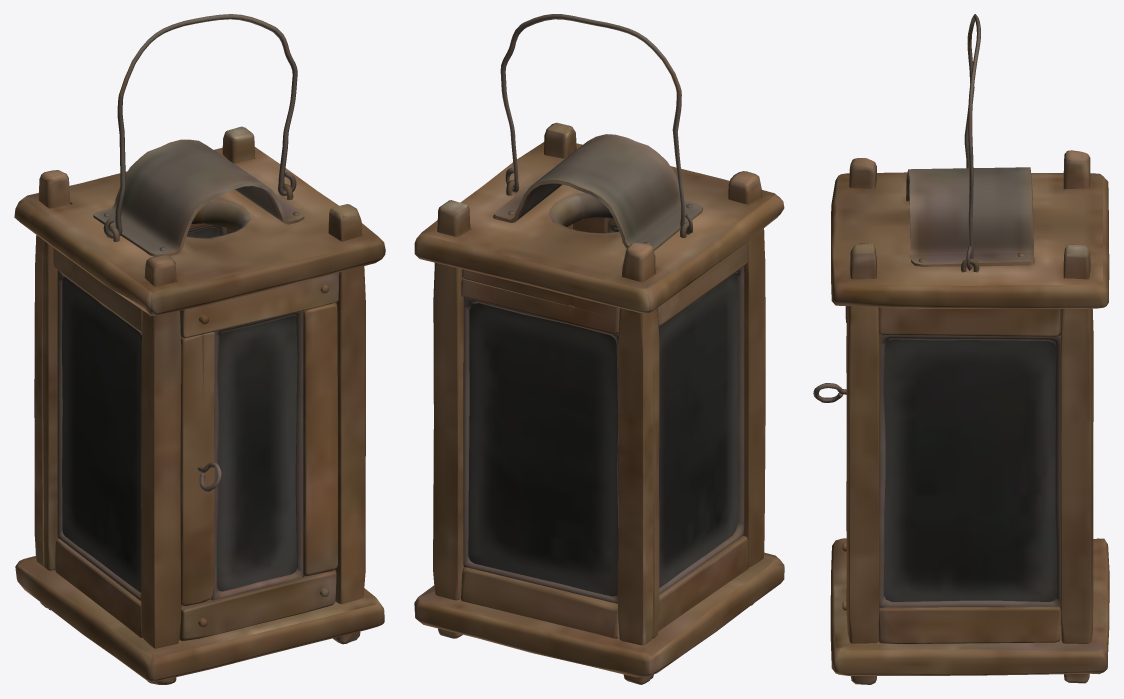
File: wooden_lantern_01.glb
3 renders of one model, left to right at view 1: azimuth 30°, elevation 25°; view 2: azimuth 150°, elevation 25°; view 3: azimuth 270°, elevation 25°, orthographic.
Parts seen in each view (by area): view 1: wooden_lantern_01, wooden_lantern_01_door, wooden_lantern_01_handle; view 2: wooden_lantern_01, wooden_lantern_01_handle, wooden_lantern_01_door; view 3: wooden_lantern_01, wooden_lantern_01_handle, wooden_lantern_01_door.
Boxes of the visible parts, left/top/right/bottom form: wooden_lantern_01: left=14, top=126, right=385, bottom=684; wooden_lantern_01_door: left=179, top=272, right=339, bottom=641; wooden_lantern_01_handle: left=103, top=14, right=297, bottom=238; wooden_lantern_01: left=414, top=122, right=784, bottom=684; wooden_lantern_01_handle: left=500, top=14, right=692, bottom=234; wooden_lantern_01_door: left=573, top=217, right=618, bottom=233; wooden_lantern_01: left=830, top=150, right=1109, bottom=684; wooden_lantern_01_handle: left=964, top=14, right=980, bottom=270; wooden_lantern_01_door: left=813, top=306, right=847, bottom=610.
Bounding box in the file's own units: 0.2211 × 0.5301 × 0.2347.
Materials: 2 (2 with a texture image).
